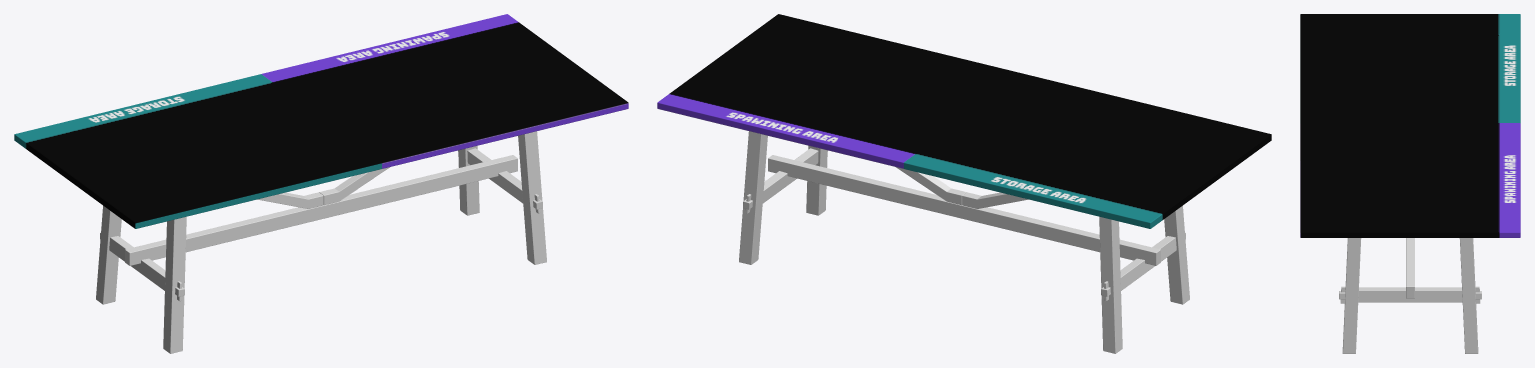
File: modern_table.dae
The picture shows the model from 3 angles, left to right: view 1: azimuth 30°, elevation 25°; view 2: azimuth 150°, elevation 25°; view 3: azimuth 270°, elevation 25°; orthographic projection. The views are drawn at different scales.
Parts seen in each view (by area): view 1: Table Top, Center Trysail; view 2: Table Top, Center Trysail; view 3: Table Top, Center Trysail.
Part boxes in pixels (bbox=[...]): Table Top: bbox=[14, 14, 628, 228]; Center Trysail: bbox=[96, 131, 546, 353]; Table Top: bbox=[657, 14, 1271, 228]; Center Trysail: bbox=[739, 131, 1189, 353]; Table Top: bbox=[1300, 14, 1520, 237]; Center Trysail: bbox=[1339, 238, 1481, 353].
Bounding box in the file's own units: 2.35 × 1 × 0.74.
2 materials, 1 textured.
